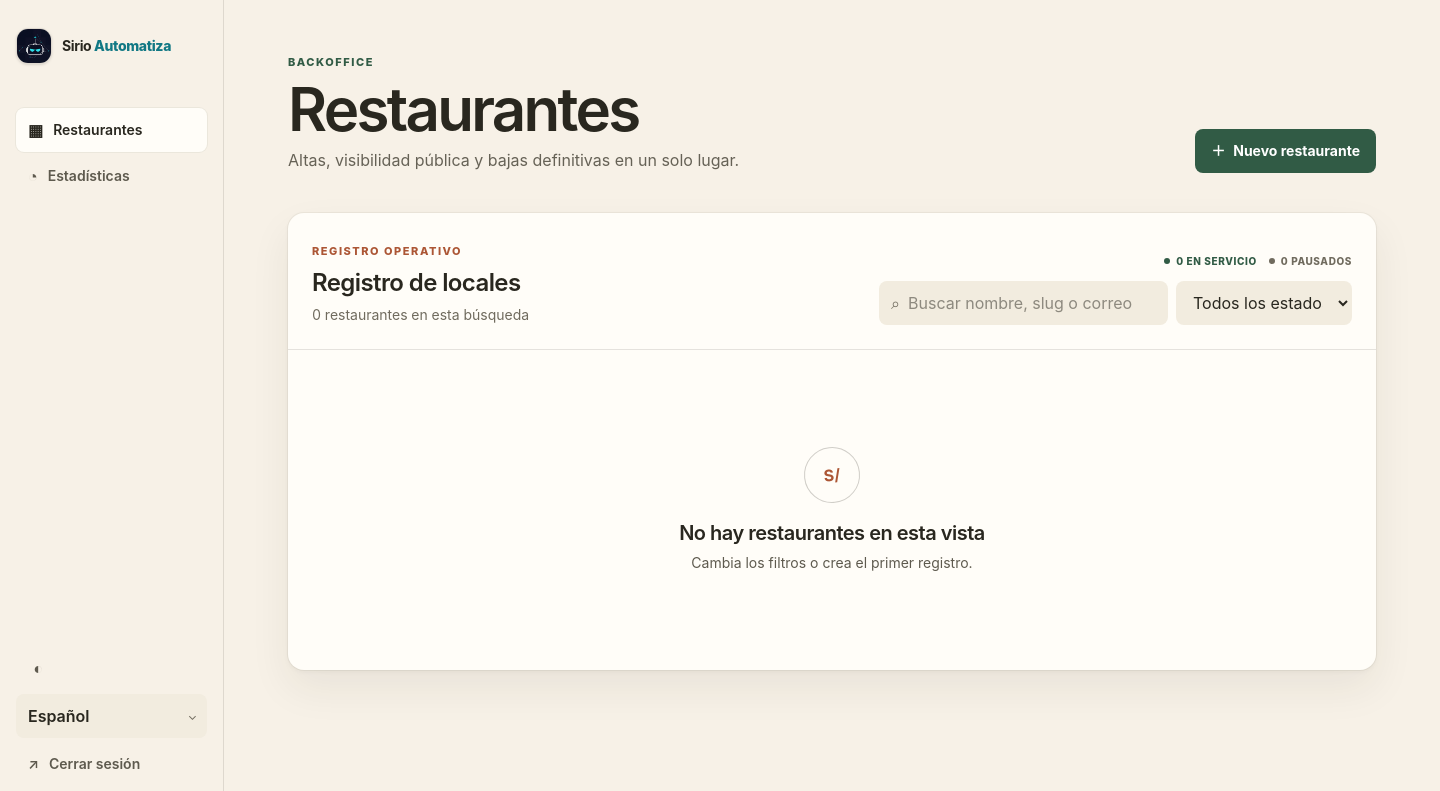
Scenario: RestaurantBackoffice › muestra el estado vacío y abre el formulario de alta accesible
The image size is (1440, 791).
Check: the heading "Restaurantes" is shown, box [288, 73, 638, 145]
Check: the heading "No hay restaurantes en esta vista" is shown, box [679, 519, 985, 547]
Click the button "＋ Nuevo restaurante" at (1286, 151), box [1195, 129, 1376, 173]
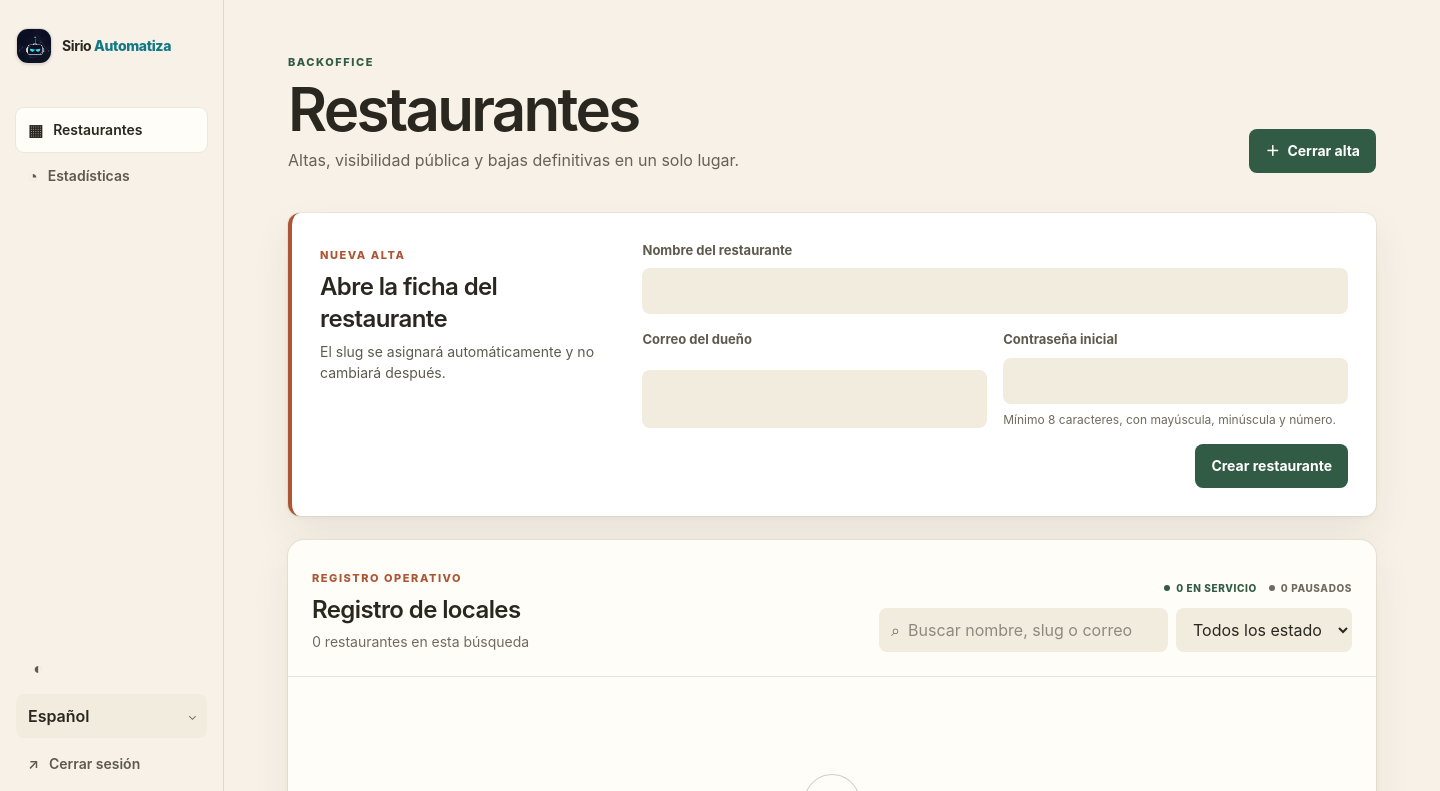
Check: the heading "Abre la ficha del restaurante" is shown, box [320, 272, 497, 333]
Check: the text "Mínimo 8 caracteres, con mayúscula, minúscula y número." is shown, box [1003, 412, 1348, 428]
